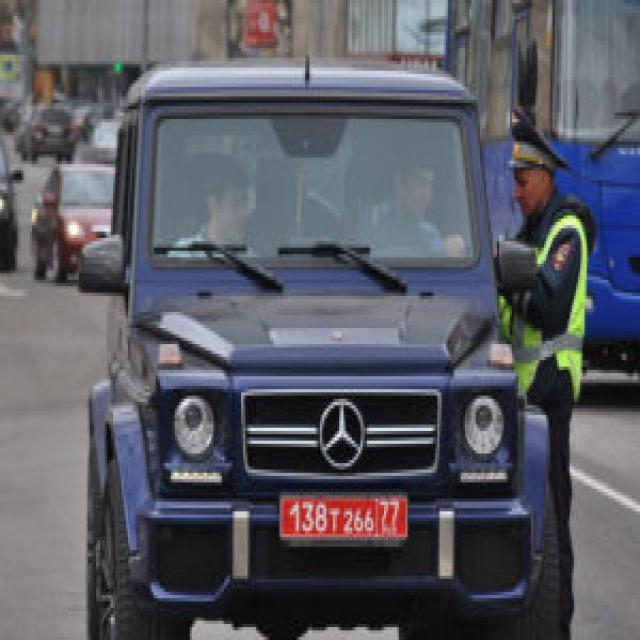number-plates: (278, 491, 408, 547)
